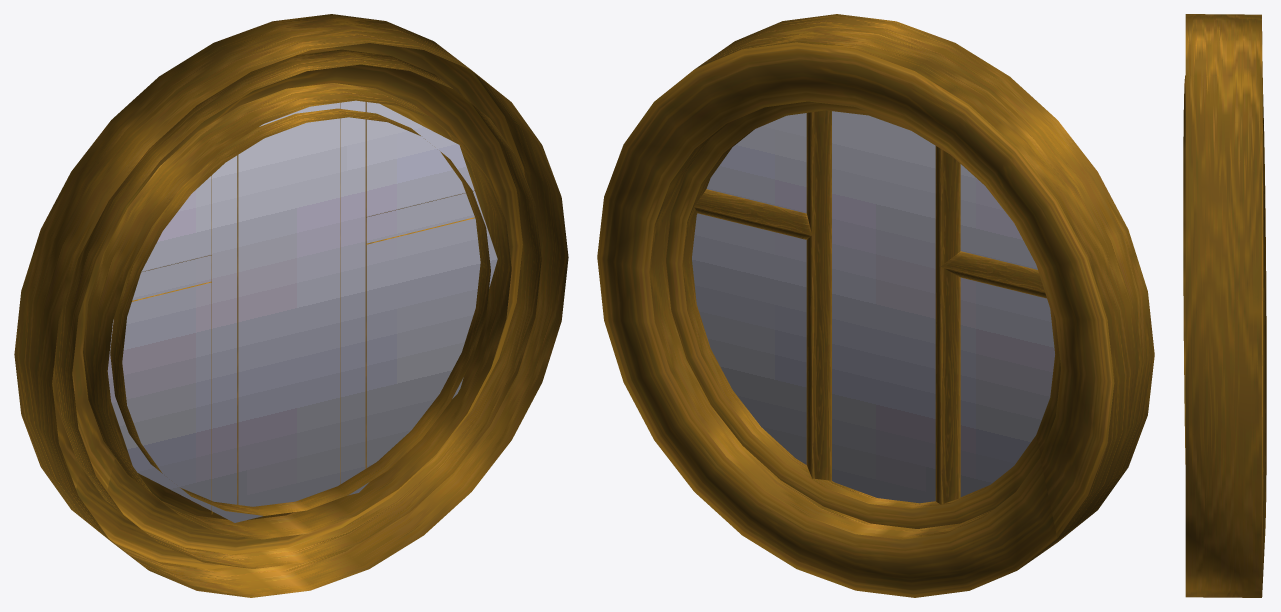
The model's file is INST_HTOWN_WINDOWA.fbx.
The picture shows the model from 3 angles, left to right: view 1: azimuth 30°, elevation 25°; view 2: azimuth 150°, elevation 25°; view 3: azimuth 270°, elevation 25°; orthographic projection. The views are drawn at different scales.
Visible parts, largest first — view 1: INST_HTOWN_WINDOWA; view 2: INST_HTOWN_WINDOWA; view 3: INST_HTOWN_WINDOWA.
Boxes of the visible parts, x1,y1,x2,y2 form: INST_HTOWN_WINDOWA: [14, 14, 568, 597]; INST_HTOWN_WINDOWA: [597, 14, 1154, 597]; INST_HTOWN_WINDOWA: [1183, 14, 1266, 597].
Size of the model in its own units: 9169 by 9145 by 1310.
Materials: 3 (3 with a texture image).
